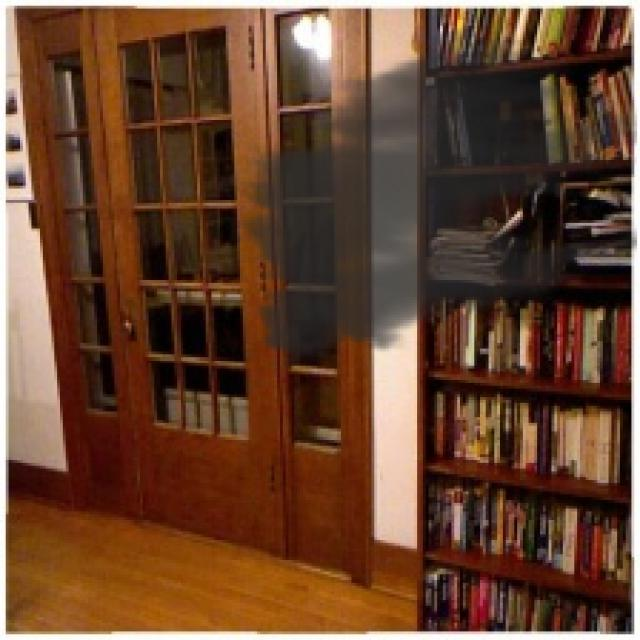smoke: (220, 17, 637, 377)
